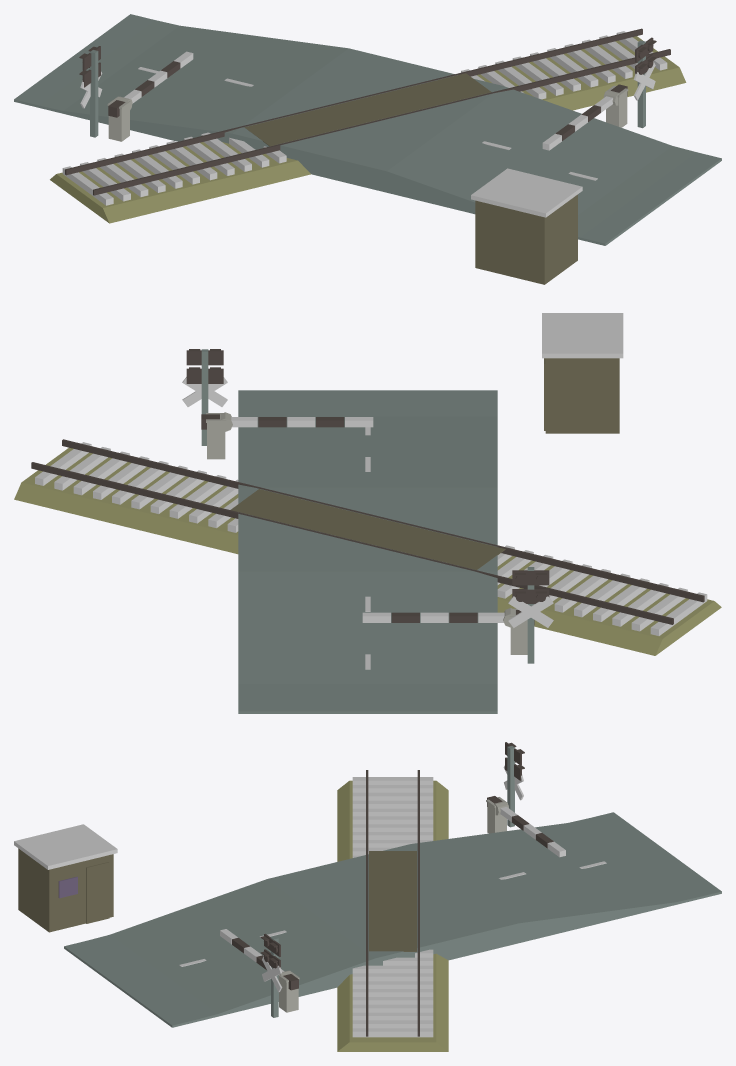
The model's file is SM_PasoNivel_60_v1_FocosDobles_LOD0.fbx.
The picture shows the model from 3 angles, top to bottom: view 1: azimuth 30°, elevation 25°; view 2: azimuth 150°, elevation 25°; view 3: azimuth 270°, elevation 25°; orthographic projection. The views are drawn at different scales.
Visible parts, largest first — view 1: SM_paso_nivel_kit_v6_LOD0, Barrera_1, Barrera_2; view 2: SM_paso_nivel_kit_v6_LOD0, Barrera_1, Barrera_2; view 3: SM_paso_nivel_kit_v6_LOD0, Barrera_2, Barrera_1.
Boxes of the visible parts, x1,y1,x2,y2 form: SM_paso_nivel_kit_v6_LOD0: (14,14,721,284); Barrera_1: (542,84,627,150); Barrera_2: (108,51,193,117); SM_paso_nivel_kit_v6_LOD0: (14,313,721,713); Barrera_1: (201,412,373,431); Barrera_2: (362,608,534,627); SM_paso_nivel_kit_v6_LOD0: (14,742,721,1051); Barrera_2: (487,796,565,857); Barrera_1: (220,929,298,990).
Size of the model in its own units: 20 by 2.8 by 22.87.
